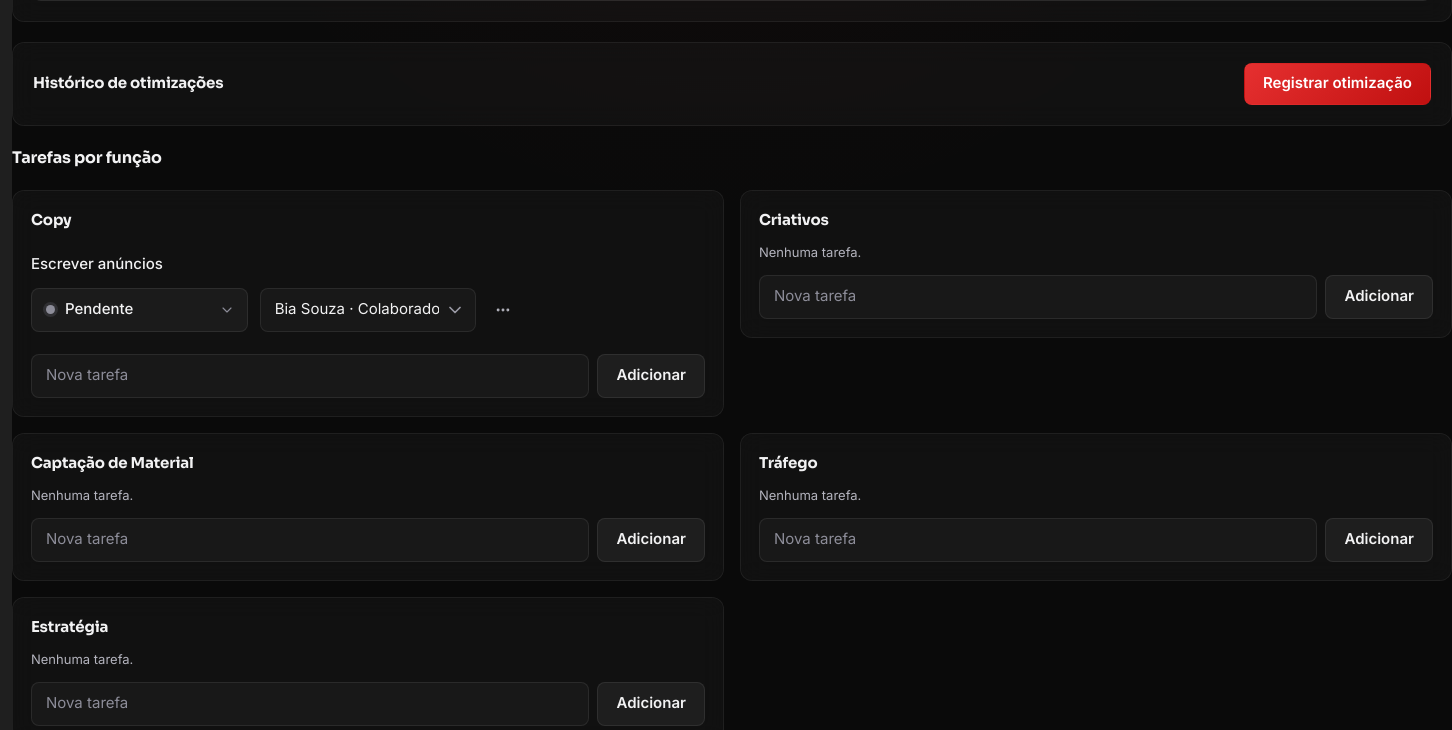
Test case: CampanhaPage › adiciona tarefa em uma função
(page scrolled)
Type "Subir conjuntos" into the field named "Nova tarefa de Tráfego" at (1038, 540), box [759,518,1318,562]
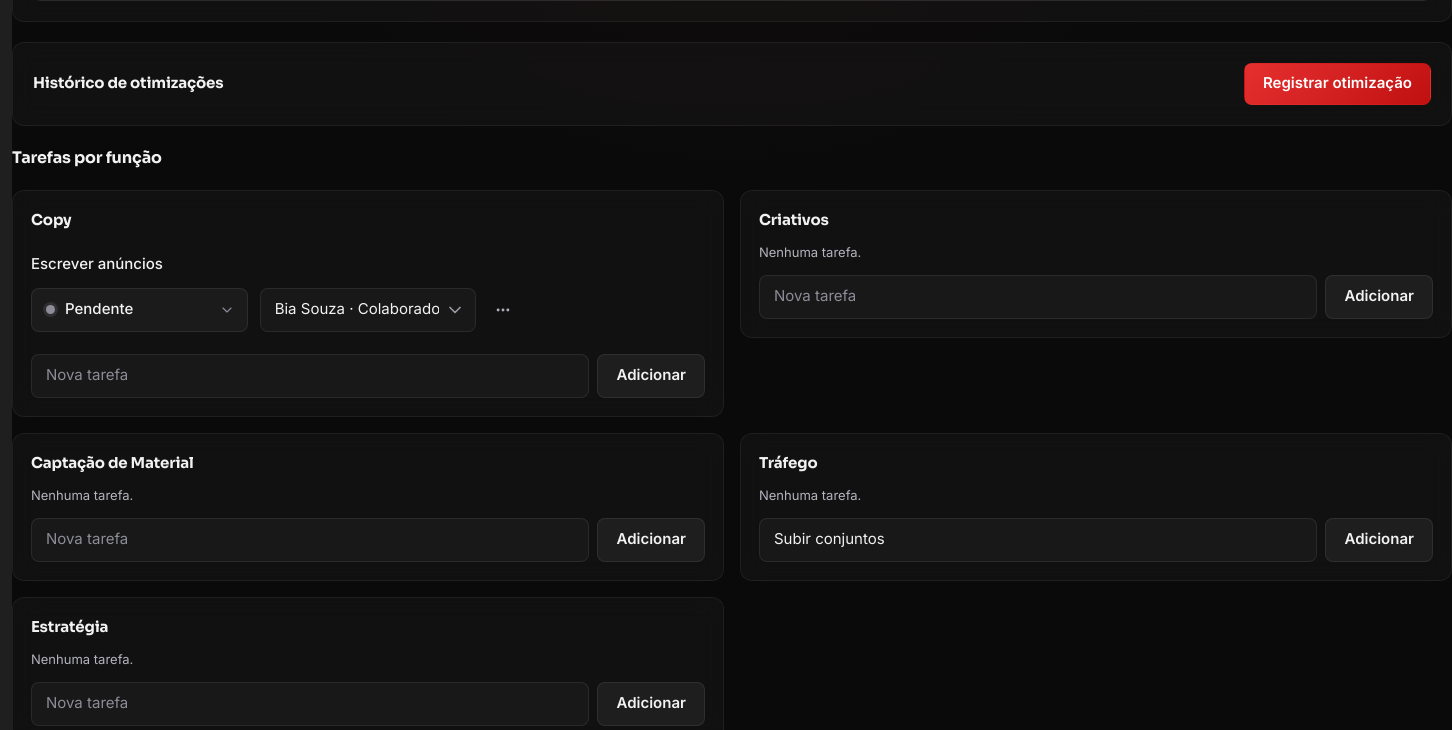
Click the 4th button "Adicionar" at (1379, 540), box [1326,518,1433,562]
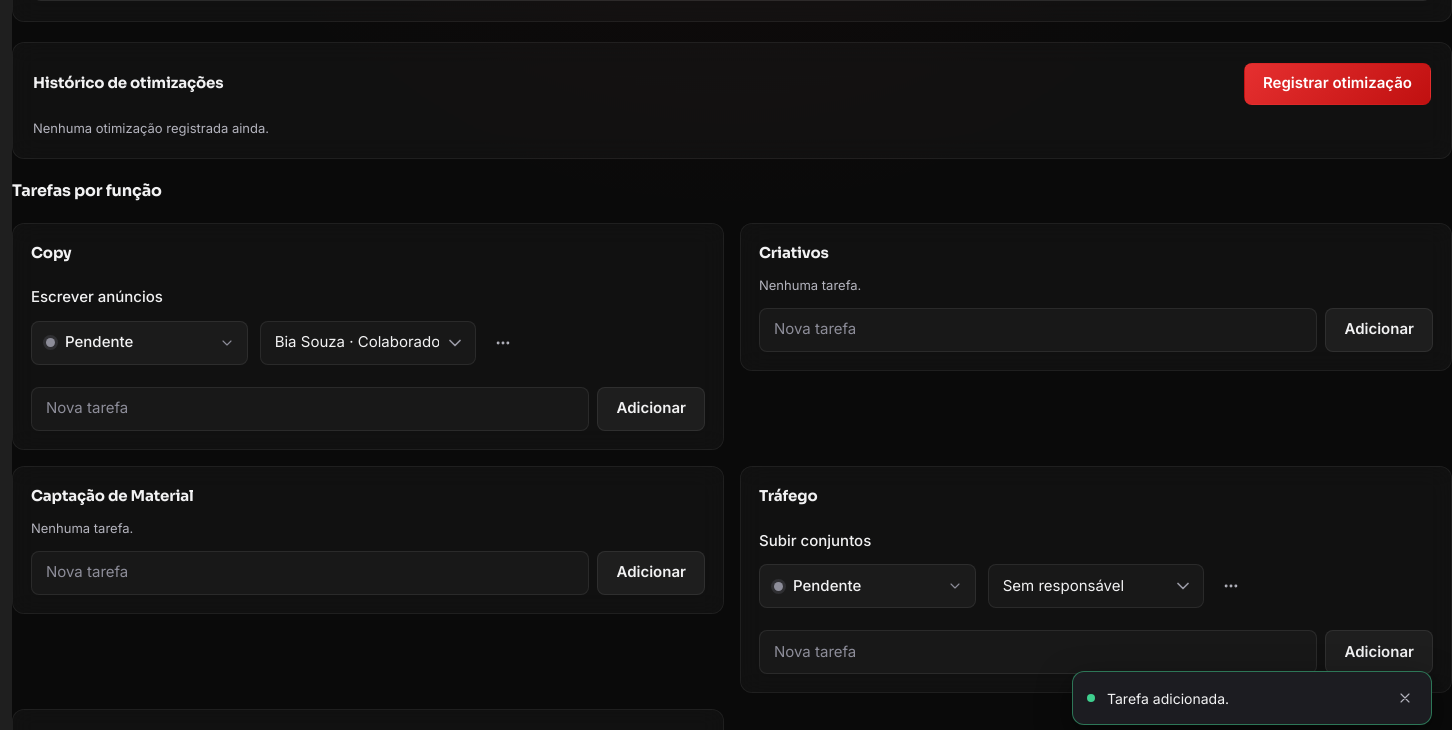
Now the text "Tarefa adicionada." is shown, box [1107,690,1229,706]
